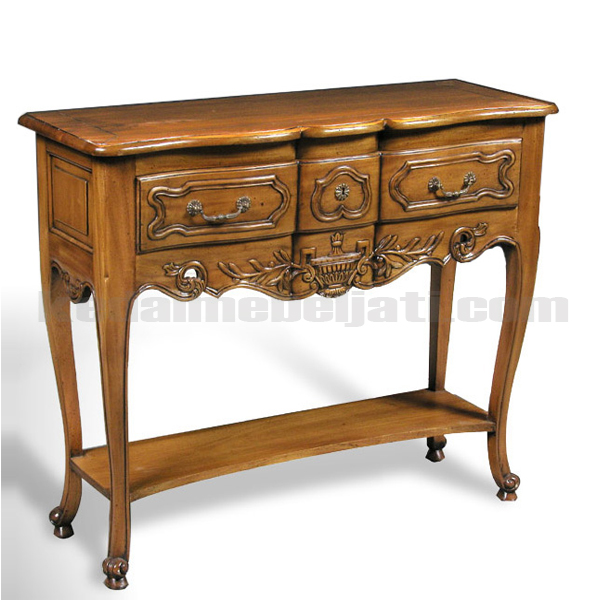Carving Table: (21, 92, 565, 561)
